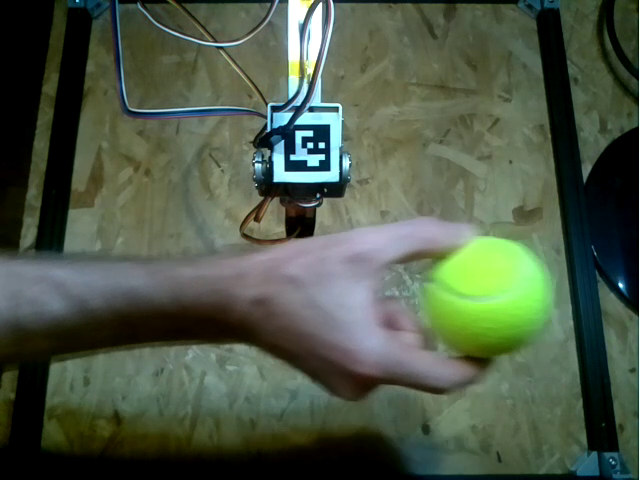tennis_ball: (425, 236, 553, 355)
